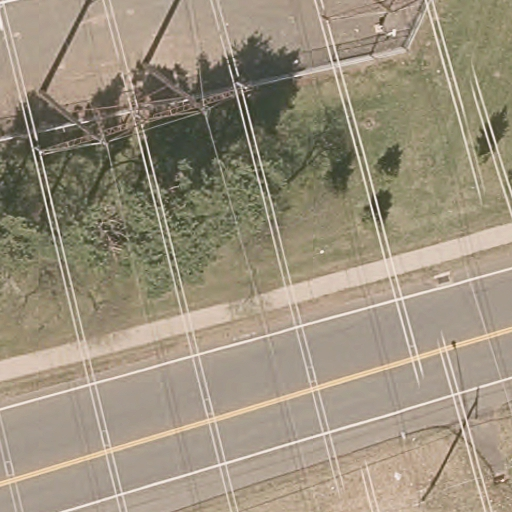DT: (406, 455, 454, 507)
